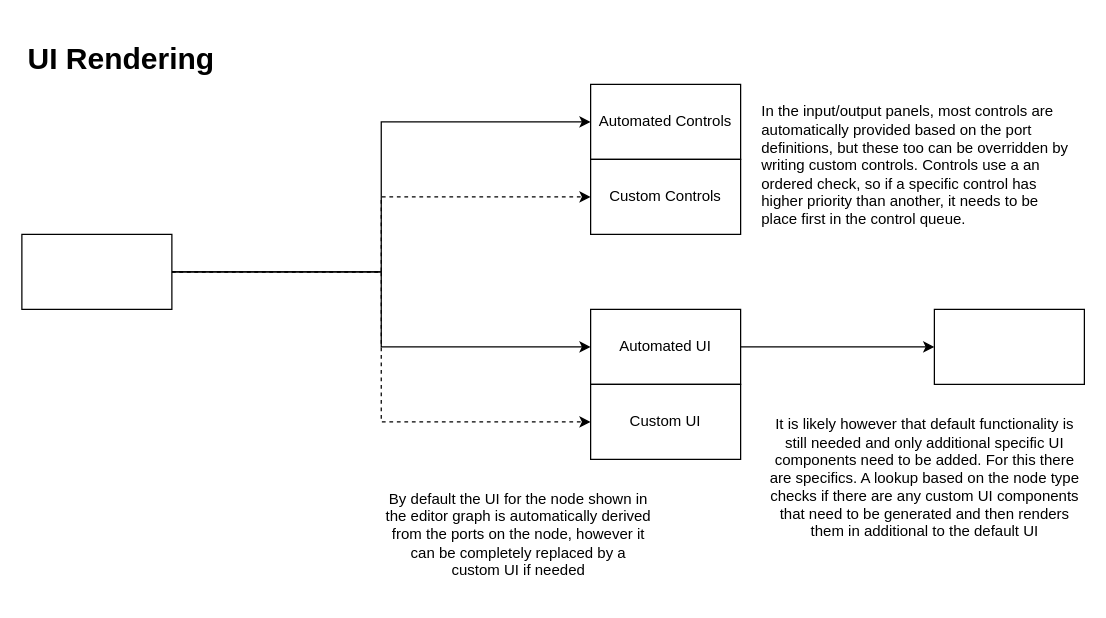
Some shapes in this 1106 by 618 pixel diagram are drawn without their labels. The shapes that lost their labels are listed below. From the top down, each one's centre as x and y in pixels, then its label:
pixel 96 271: Node Definition
pixel 1008 346: Specifics
